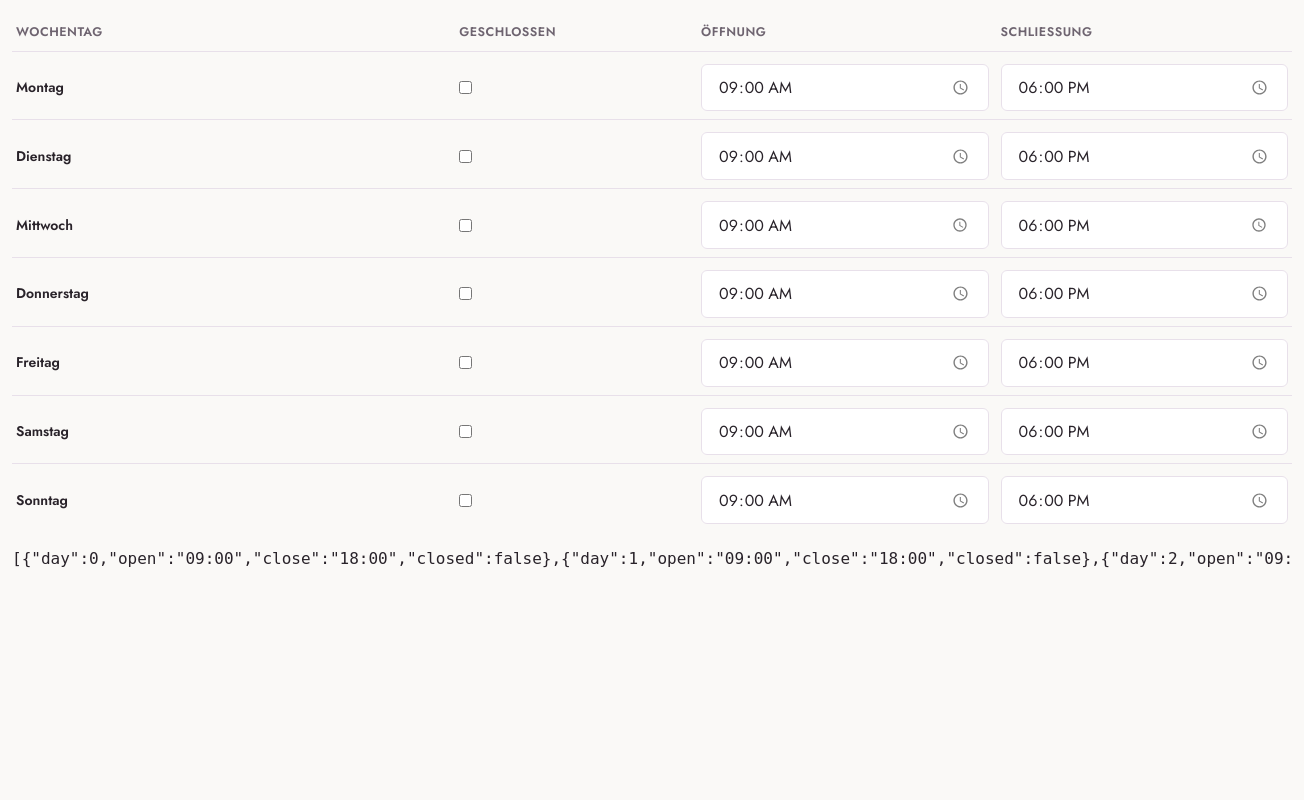
Test: OpeningHoursEditor › ticking Geschlossen disables that row's two time inputs and updates the bound days
expect the 5th time field named "Öffnung Mittwoch" is enabled: met, box [701, 201, 988, 249]
Click the checkbox named "Geschlossen Mittwoch" in the row of "Mittwoch" at point(466, 225), box [459, 219, 472, 232]
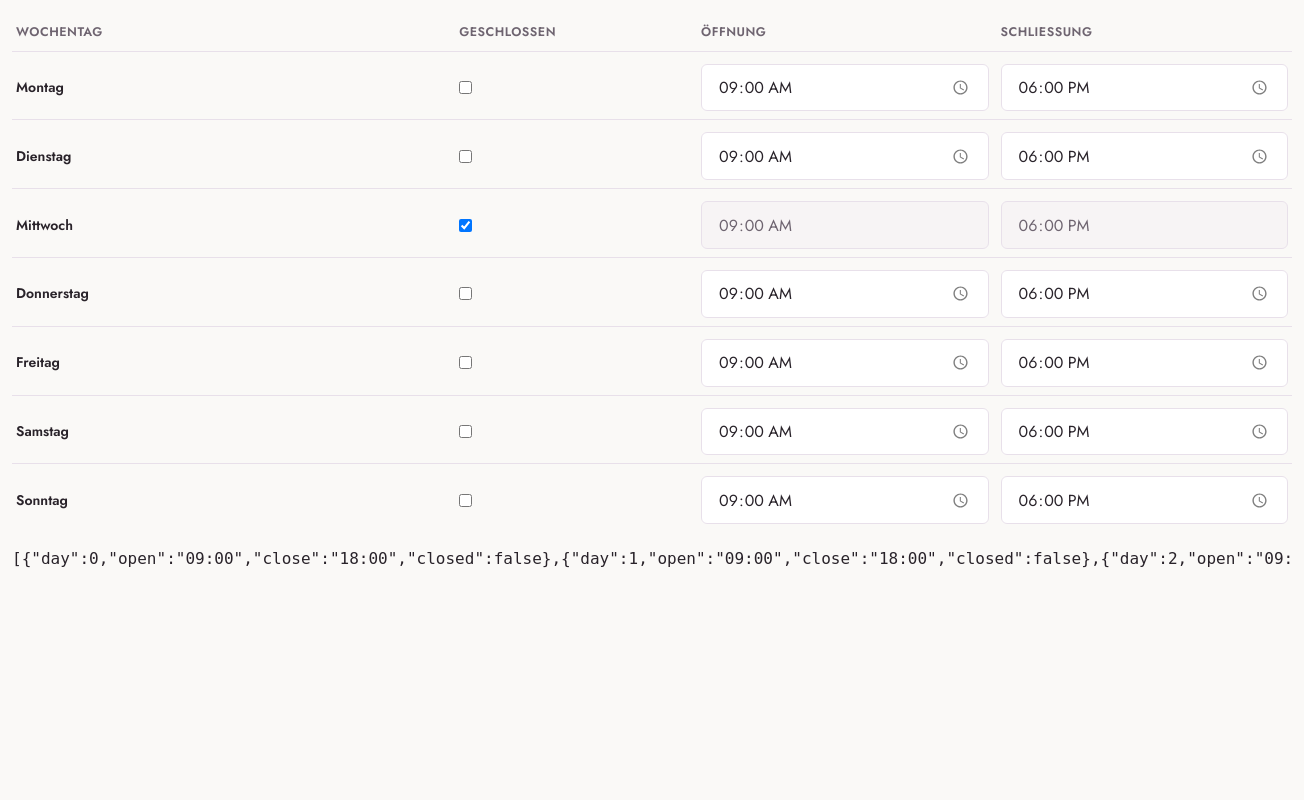
expect the 3rd time field named "Öffnung Dienstag" is enabled: met, box [701, 132, 988, 180]
expect the 5th time field named "Öffnung Mittwoch" is disabled: met, box [701, 201, 988, 249]
expect the 6th time field named "Schließung Mittwoch" is disabled: met, box [1000, 201, 1288, 249]
